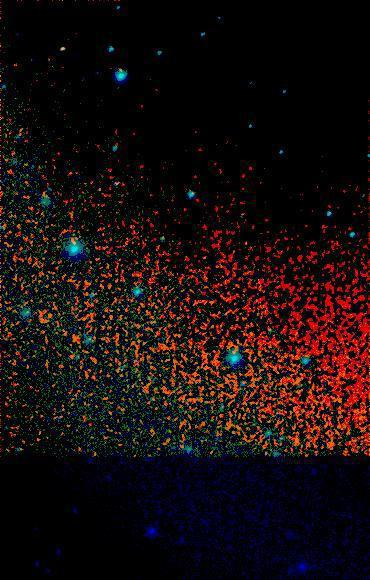star: (58, 226, 88, 256)
